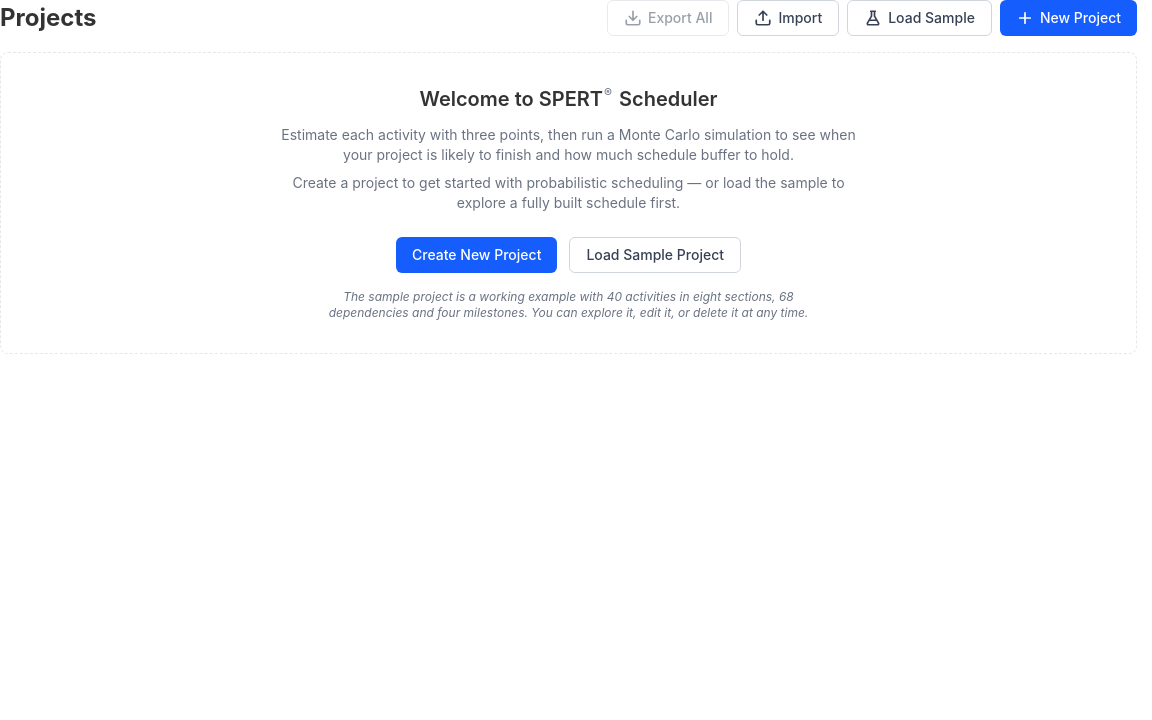
Test: the Welcome panel › Create New Project opens the New Project window, as the toolbar's New Project does
Click the button "Create New Project". click: click(477, 255)
box: [396, 237, 557, 273]
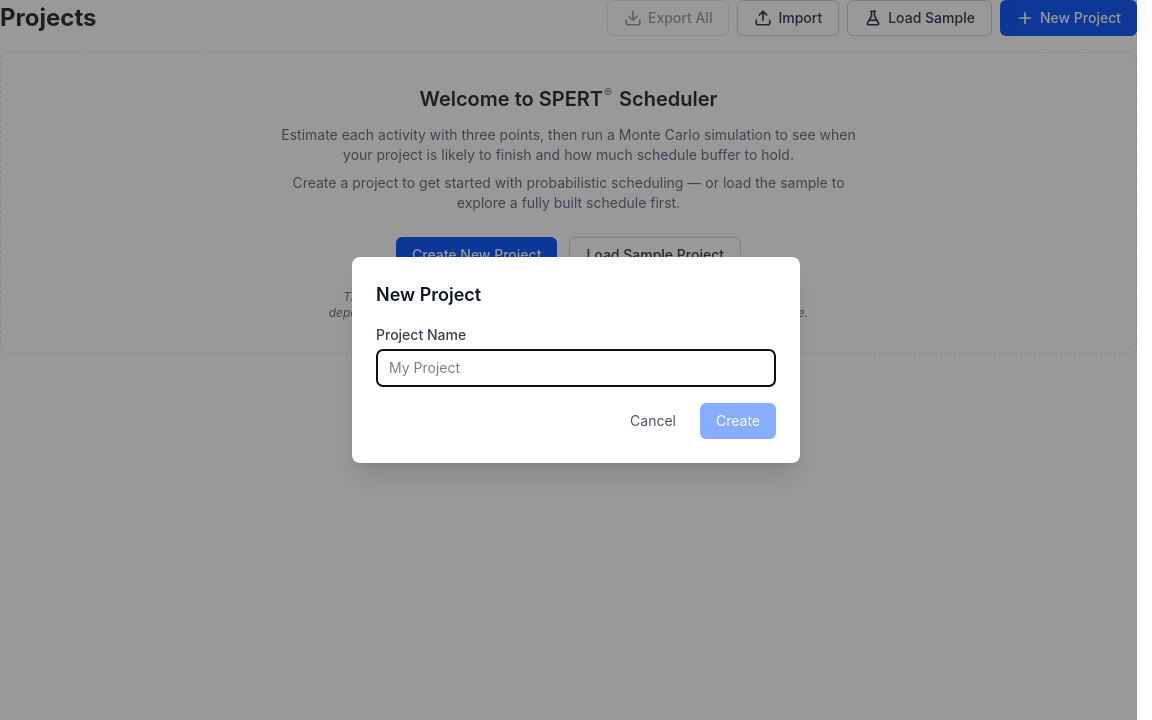
Check: the dialog "New Project" is shown, box [352, 257, 800, 463]
